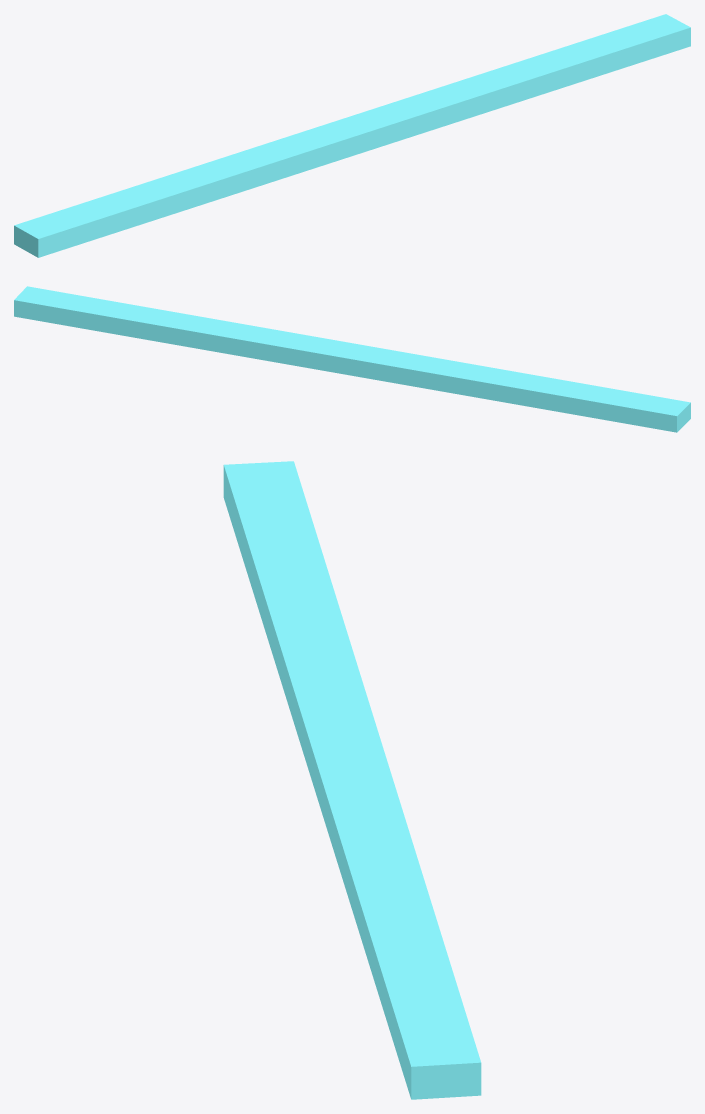
File: Transit_AirGuide_Curve15_R32_EdgeTicks-1.glb
3 views of the same model, one above another, from view 1: azimuth 30°, elevation 25°; view 2: azimuth 150°, elevation 25°; view 3: azimuth 270°, elevation 25° (orthographic). The views are drawn at different scales.
Visible parts, largest first — view 1: Transit_AirGuide_Curve15_R32_EdgeTicks-1; view 2: Transit_AirGuide_Curve15_R32_EdgeTicks-1; view 3: Transit_AirGuide_Curve15_R32_EdgeTicks-1.
Boxes of the visible parts, box(x1,y1,x2,y2) form: Transit_AirGuide_Curve15_R32_EdgeTicks-1: box(14, 14, 690, 257); Transit_AirGuide_Curve15_R32_EdgeTicks-1: box(14, 286, 690, 432); Transit_AirGuide_Curve15_R32_EdgeTicks-1: box(223, 461, 481, 1099).
Size of the model in its own units: 0.7094 by 0.018 by 0.1275.
